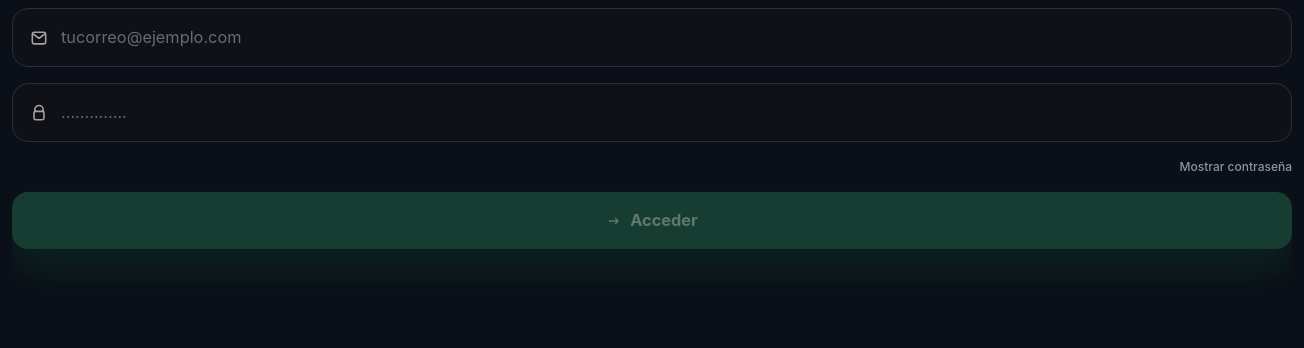
LoginForm – failed login › shows a controlled error message when login() rejects
The image size is (1304, 348).
Type "user@example.com" into the field with placeholder "tucorreo@ejemplo.com".
click(668, 38); type("user@example.com")  # box [61, 25, 1275, 50]
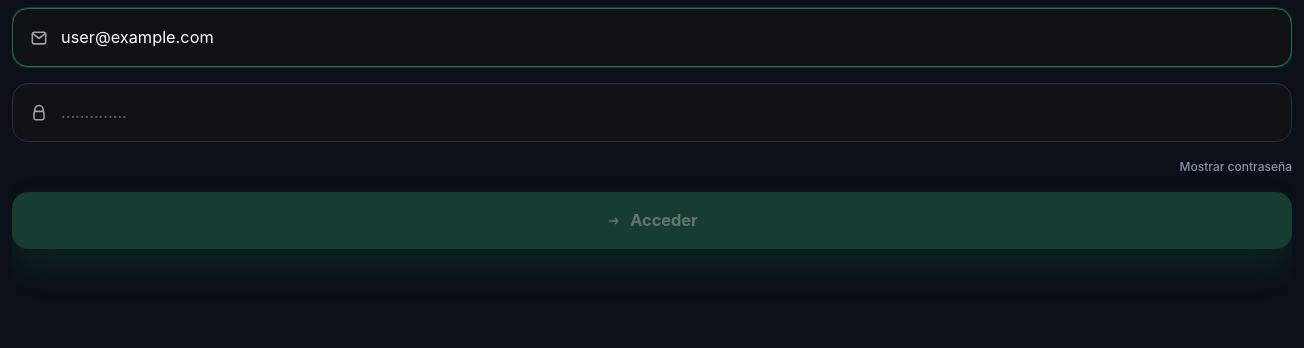
Type "WrongPass1!" into the password field with placeholder "..............".
click(668, 113); type("WrongPass1!")  # box [61, 100, 1275, 125]
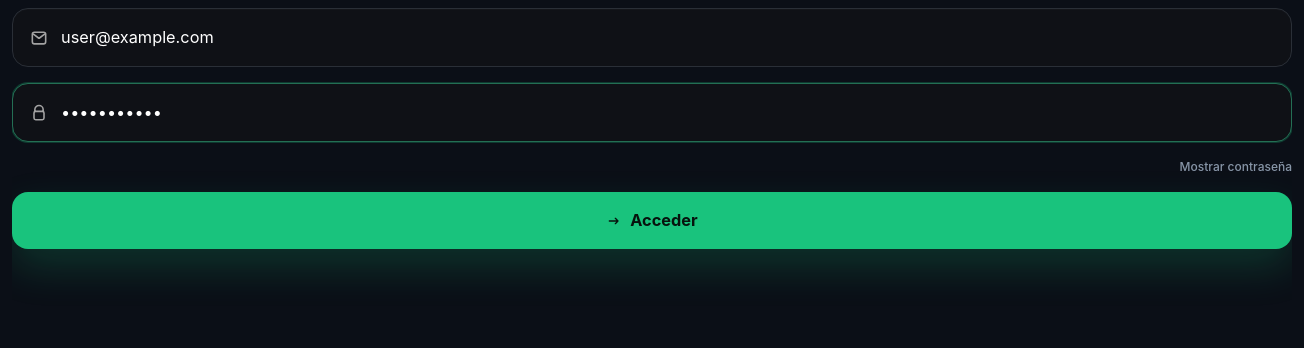
Click the button with test id "submit-login".
click(652, 221)  # box [12, 192, 1292, 249]
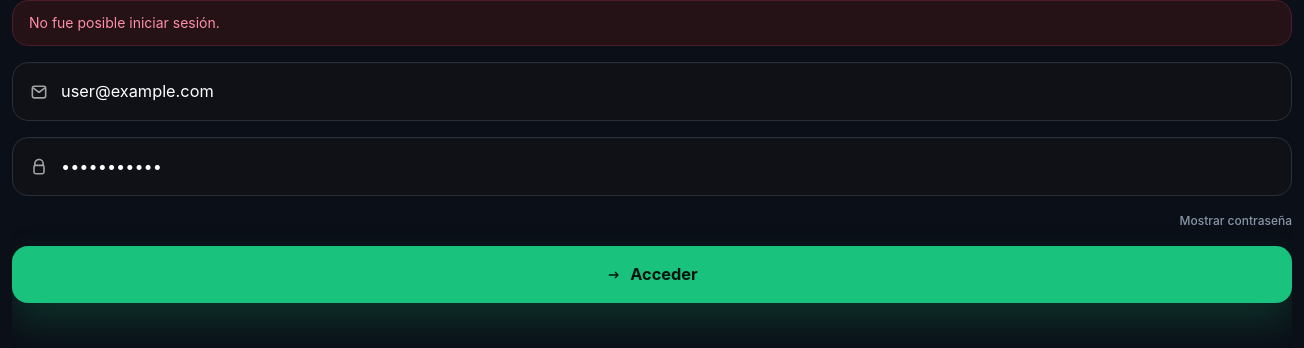
Check: the text "No fue posible iniciar sesión." is shown, box [12, 0, 1292, 46]
